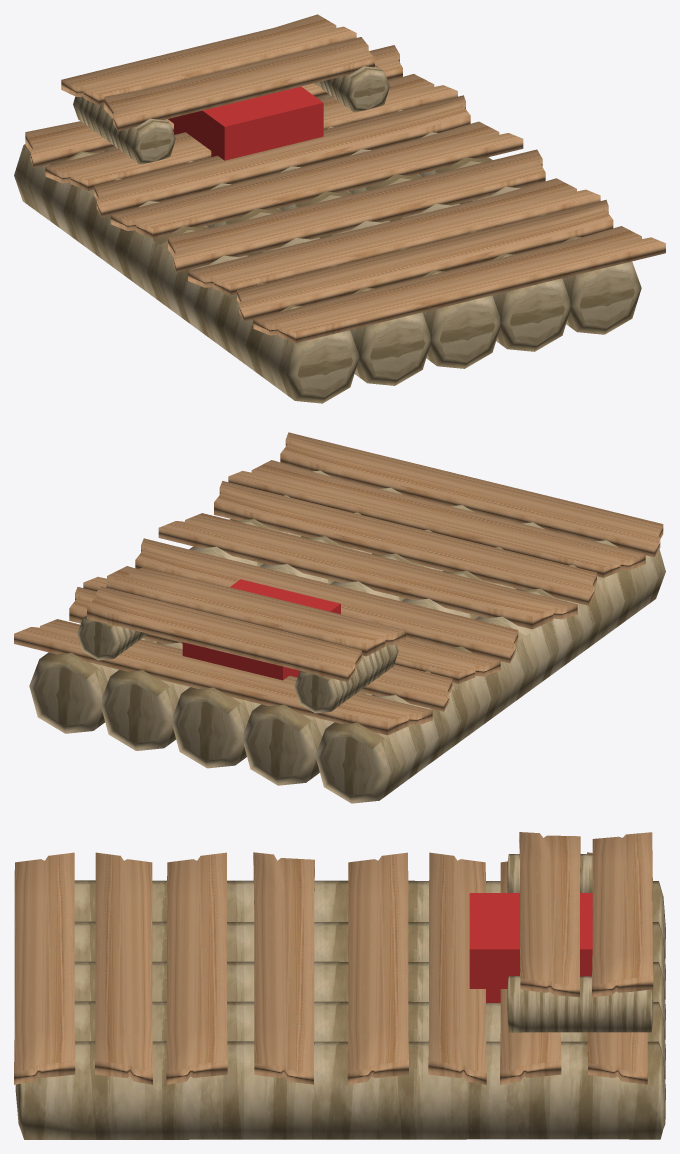
File: Raft.fbx
3 renders of one model, top to bottom at view 1: azimuth 30°, elevation 25°; view 2: azimuth 150°, elevation 25°; view 3: azimuth 270°, elevation 25°, orthographic. The views are drawn at different scales.
Visible parts, largest first — view 1: PalmTreeRaftLog (3), WoodPlank (3), WoodPlank (7), WoodPlank (2), WoodPlank (1), WoodPlank, WoodPlank (4), WoodPlank (8), WoodPlank (9), DrivingPos, WoodPlank (5), PalmTreeRaftLog (2) (+6 smaller); view 2: PalmTreeRaftLog (3), WoodPlank (2), WoodPlank (1), WoodPlank (3), WoodPlank, WoodPlank (6), WoodPlank (7), WoodPlank (9), WoodPlank (8), PalmTreeRaftLog (2), PalmTreeRaftLog (1), PalmTreeRaftLog (4) (+6 smaller); view 3: PalmTreeRaftLog (4), WoodPlank (2), WoodPlank (3), WoodPlank (7), WoodPlank (1), WoodPlank, WoodPlank (4), WoodPlank (9), WoodPlank (8), PalmTreeRaftLog (1), PalmTreeRaftLog (5), DrivingPos (+6 smaller).
Part boxes in pixels (box(x1,y1,x2,y2)): PalmTreeRaftLog (3): box(14, 144, 359, 403); WoodPlank (3): box(253, 226, 665, 342); WoodPlank (7): box(110, 121, 523, 238); WoodPlank (2): box(168, 149, 545, 272); WoodPlank (1): box(188, 178, 600, 295); WoodPlank: box(237, 199, 613, 321); WoodPlank (4): box(94, 95, 470, 217); WoodPlank (8): box(104, 37, 374, 131); WoodPlank (9): box(61, 14, 356, 105); DrivingPos: box(168, 86, 323, 160); WoodPlank (5): box(45, 74, 457, 190); PalmTreeRaftLog (2): box(104, 147, 430, 385); PalmTreeRaftLog (3): box(315, 540, 665, 803); WoodPlank (2): box(158, 513, 577, 629); WoodPlank (1): box(214, 481, 596, 605); WoodPlank (3): box(280, 432, 663, 557); WoodPlank: box(228, 460, 645, 577); WoodPlank (6): box(14, 619, 432, 735); WoodPlank (7): box(135, 538, 518, 663); WoodPlank (9): box(87, 586, 361, 682); WoodPlank (8): box(106, 566, 405, 656); PalmTreeRaftLog (2): box(243, 522, 544, 785); PalmTreeRaftLog (1): box(101, 487, 402, 750); PalmTreeRaftLog (4): box(29, 470, 330, 733); PalmTreeRaftLog (4): box(15, 1041, 665, 1139); WoodPlank (2): box(253, 852, 314, 1084); WoodPlank (3): box(14, 852, 75, 1084); WoodPlank (7): box(347, 852, 408, 1084); WoodPlank (1): box(166, 852, 227, 1084); WoodPlank: box(95, 852, 152, 1084); WoodPlank (4): box(428, 852, 486, 1084); WoodPlank (9): box(592, 832, 653, 997); WoodPlank (8): box(519, 832, 580, 997); PalmTreeRaftLog (1): box(74, 1001, 665, 1079); PalmTreeRaftLog (5): box(507, 976, 652, 1032); DrivingPos: box(469, 893, 592, 1002).
Size of the model in its own units: 3.92 by 1.24 by 4.89.
